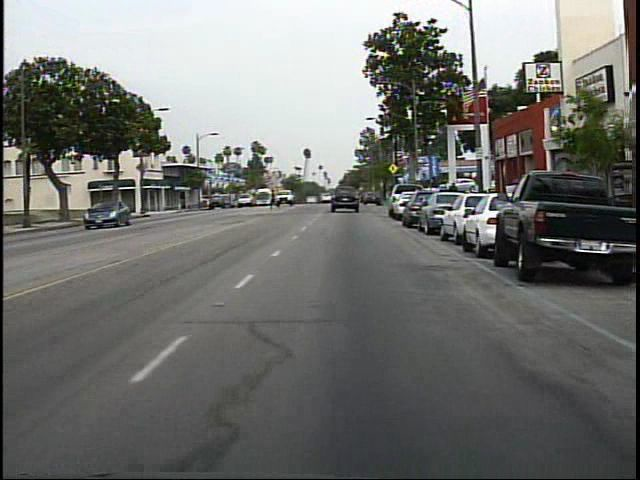person: (444, 178, 464, 219), (268, 185, 282, 214)
